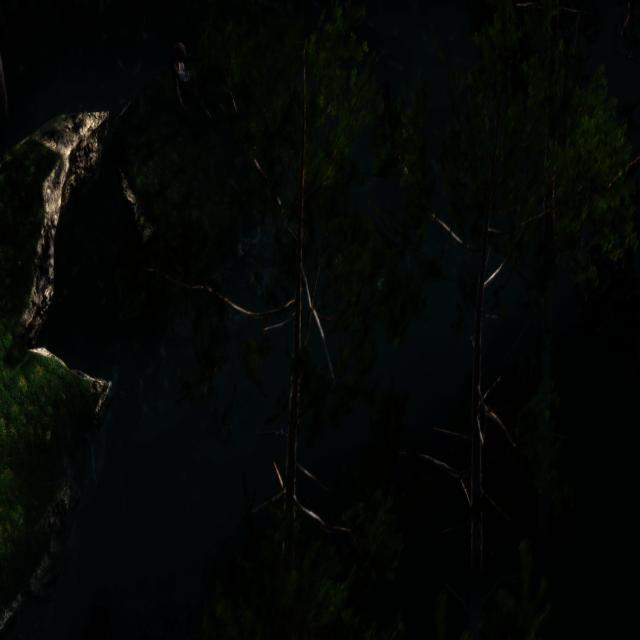Human: (169, 48, 221, 118)
